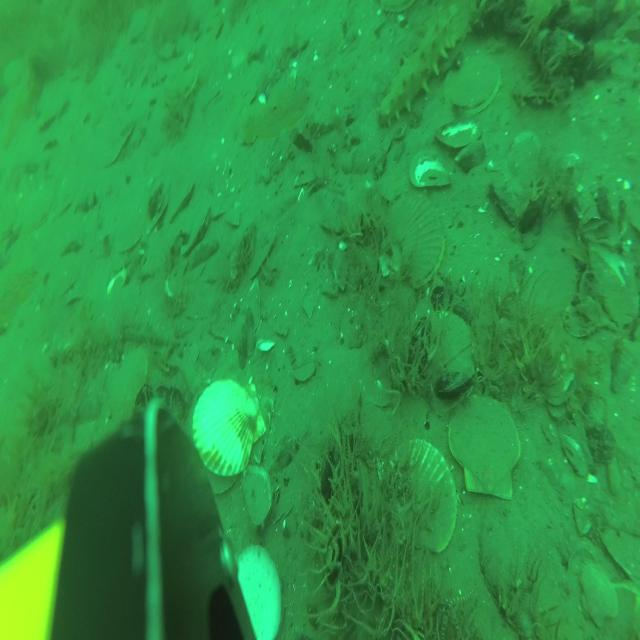holothurian: (378, 13, 464, 127)
scallop: (192, 374, 267, 491), (386, 438, 458, 556), (448, 396, 522, 501), (380, 194, 448, 287), (411, 312, 478, 398), (522, 239, 574, 331), (235, 545, 283, 640), (443, 50, 503, 114), (580, 557, 620, 627), (18, 179, 54, 232)
